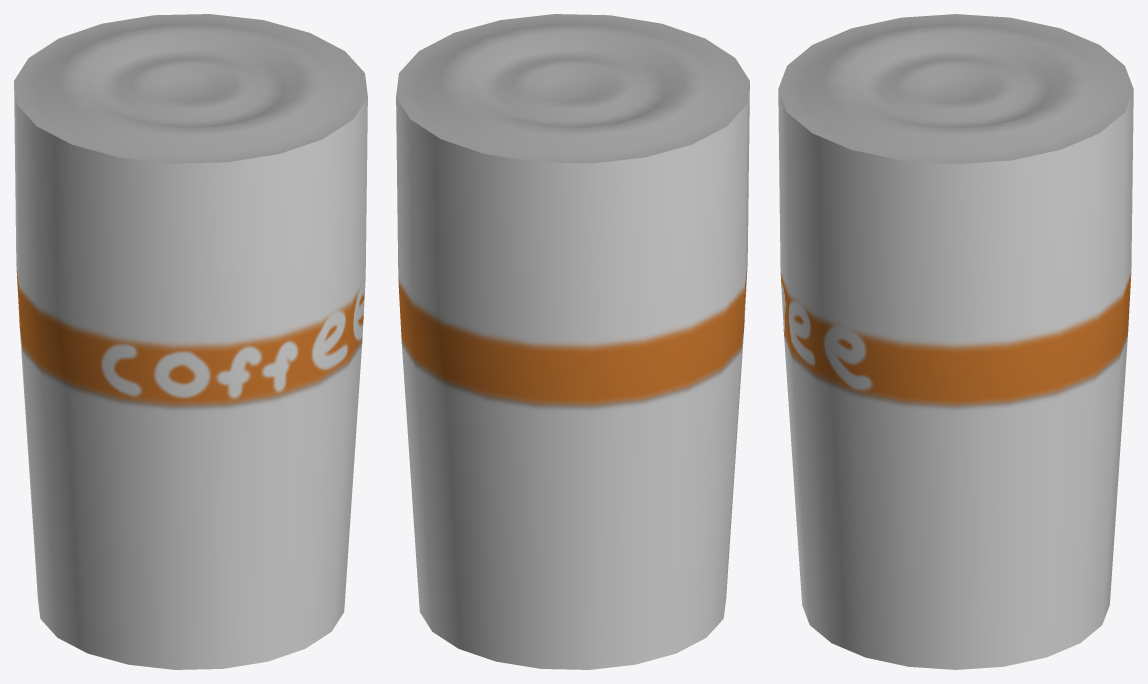
Rendered from Worlds_Smallest_Coffee_Cup_Mesh.fbx.
3 renders of one model, left to right at view 1: azimuth 30°, elevation 25°; view 2: azimuth 150°, elevation 25°; view 3: azimuth 270°, elevation 25°, orthographic.
Parts seen in each view (by area): view 1: Worlds_Smallest_Coffee_Cup1; view 2: Worlds_Smallest_Coffee_Cup1; view 3: Worlds_Smallest_Coffee_Cup1.
Boxes of the visible parts, box(x1,y1,x2,y2) form: Worlds_Smallest_Coffee_Cup1: box(14, 14, 367, 669); Worlds_Smallest_Coffee_Cup1: box(396, 14, 749, 669); Worlds_Smallest_Coffee_Cup1: box(778, 14, 1133, 669).
Size of the model in its own units: 4.81 by 7.83 by 4.81.
